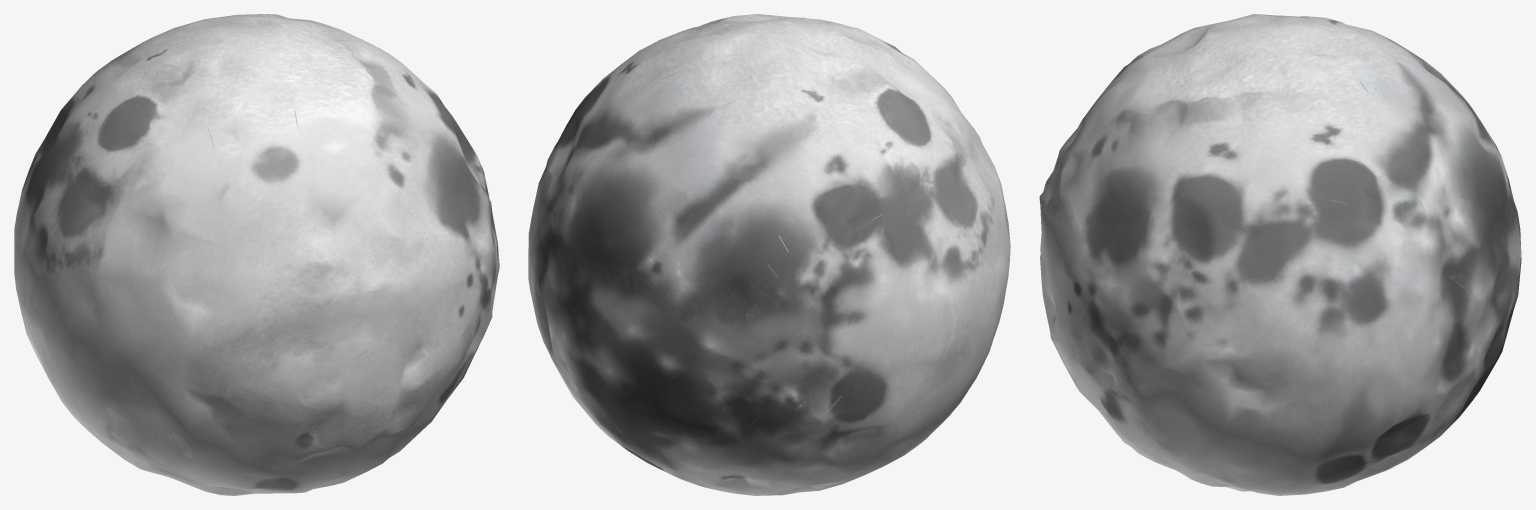
File: moon.glb
3 views of the same model, side by side, from view 1: azimuth 30°, elevation 25°; view 2: azimuth 150°, elevation 25°; view 3: azimuth 270°, elevation 25° (orthographic).
Parts seen in each view (by area): view 1: Mesh_0; view 2: Mesh_0; view 3: Mesh_0.
Boxes of the visible parts, x1=… form: Mesh_0: x1=14, y1=14, x2=499, y2=495; Mesh_0: x1=528, y1=14, x2=1010, y2=495; Mesh_0: x1=1039, y1=14, x2=1521, y2=495.
Bounding box in the file's own units: 1.91 × 1.91 × 1.9.
1 material, 1 textured.
